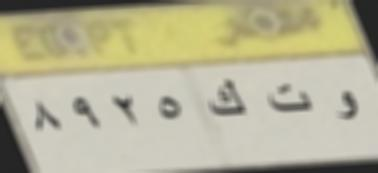2: (111, 91, 139, 130)
5: (150, 89, 184, 124)
8: (28, 98, 64, 138)
9: (68, 96, 104, 134)
kaaf: (202, 76, 249, 123)
taa: (264, 80, 315, 116)
waw: (328, 85, 362, 127)
